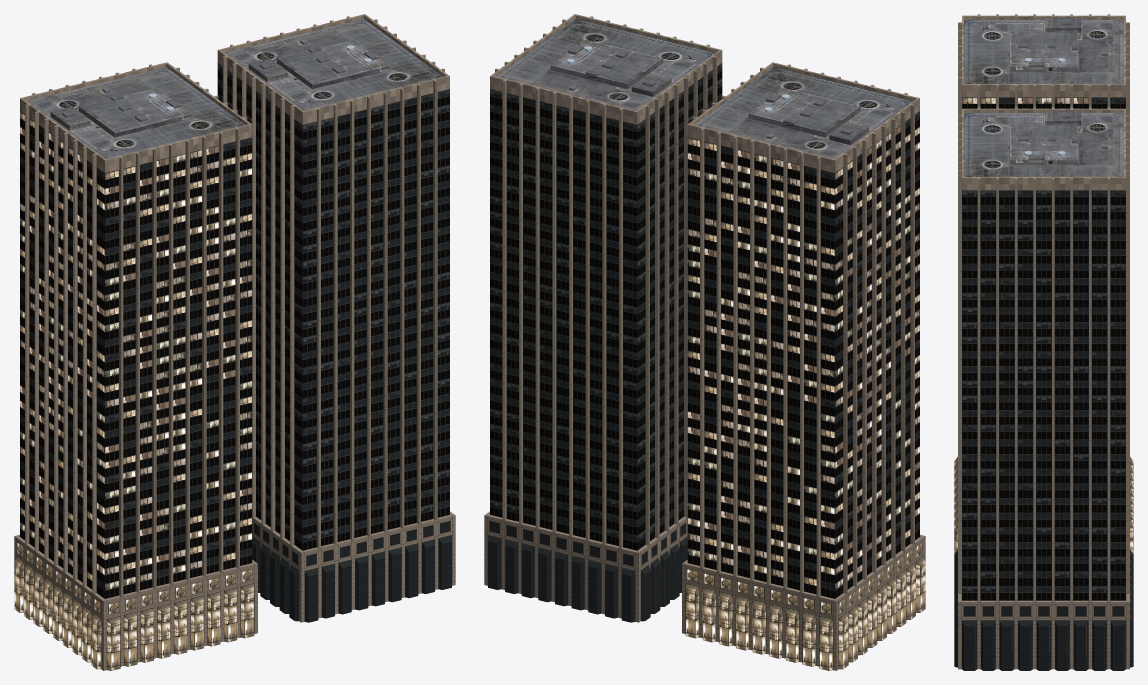
Rendered from AMP_Centre_variation_03.FBX.
The picture shows the model from 3 angles, left to right: view 1: azimuth 30°, elevation 25°; view 2: azimuth 150°, elevation 25°; view 3: azimuth 270°, elevation 25°; orthographic projection. The views are drawn at different scales.
Visible parts, largest first — view 1: AMP_Centre_Night_v3, AMP_Centre_Day_v3; view 2: AMP_Centre_Night_v3, AMP_Centre_Day_v3; view 3: AMP_Centre_Day_v3, AMP_Centre_Night_v3.
Part boxes in pixels (box(x1,y1,x2,y2)): AMP_Centre_Night_v3: box(14, 62, 257, 670); AMP_Centre_Day_v3: box(217, 14, 455, 622); AMP_Centre_Night_v3: box(682, 62, 925, 670); AMP_Centre_Day_v3: box(484, 14, 722, 622); AMP_Centre_Day_v3: box(954, 107, 1133, 670); AMP_Centre_Night_v3: box(954, 14, 1133, 553).
Size of the model in its own units: 8380 by 11406 by 3762.
2 materials, 2 textured.
